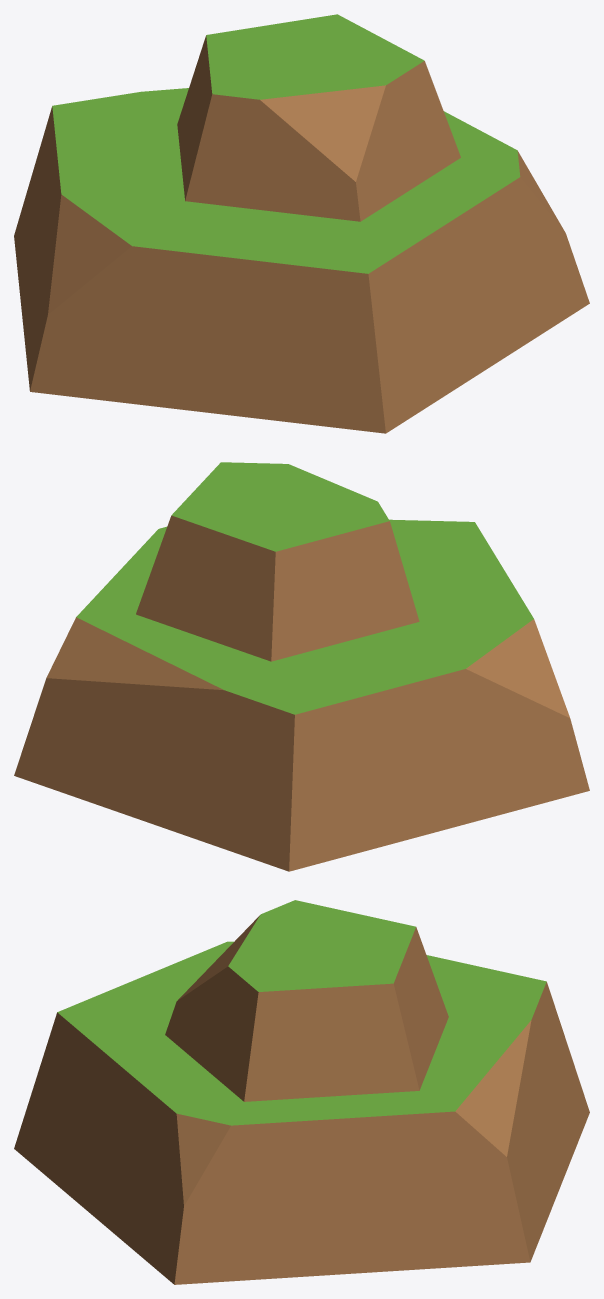
The model's file is rock_smallTopA.glb.
3 renders of one model, top to bottom at view 1: azimuth 30°, elevation 25°; view 2: azimuth 150°, elevation 25°; view 3: azimuth 270°, elevation 25°, orthographic. The views are drawn at different scales.
Parts seen in each view (by area): view 1: rock_smallTopA; view 2: rock_smallTopA; view 3: rock_smallTopA.
Part boxes in pixels (x1,y1,x2,y2): rock_smallTopA: (14, 14, 589, 433); rock_smallTopA: (14, 462, 589, 871); rock_smallTopA: (14, 900, 589, 1284).
Size of the model in its own units: 0.4877 by 0.22 by 0.4891.
